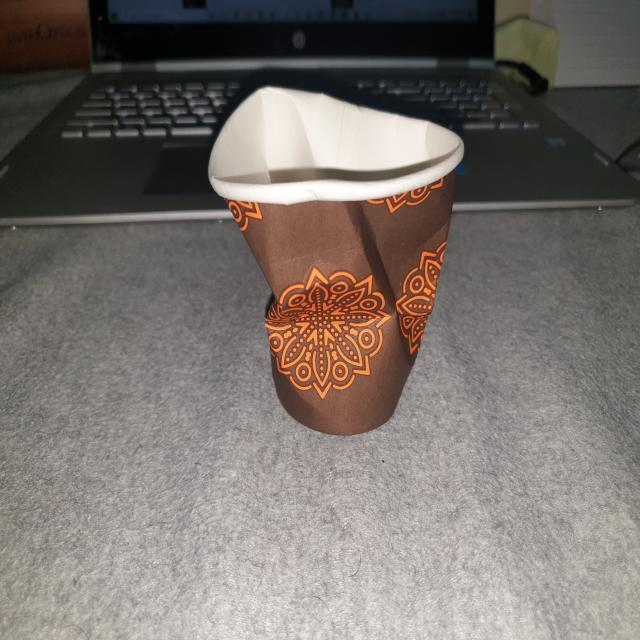cups: (197, 82, 476, 443)
